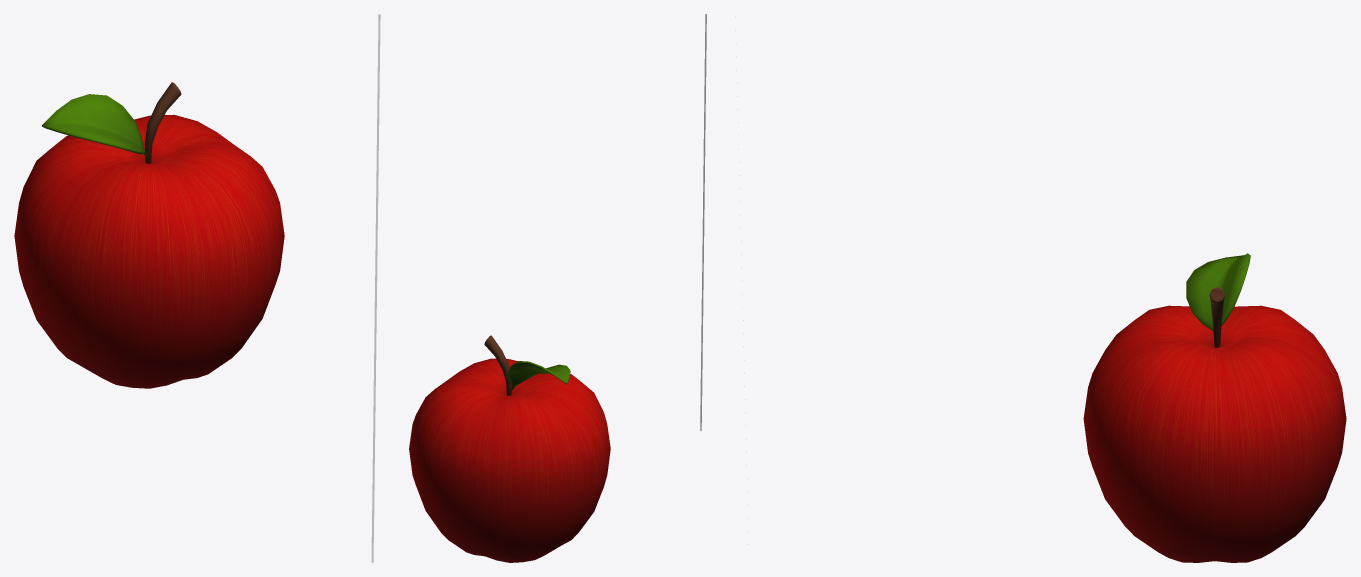
3 renders of one model, left to right at view 1: azimuth 30°, elevation 25°; view 2: azimuth 150°, elevation 25°; view 3: azimuth 270°, elevation 25°, orthographic. The views are drawn at different scales.
Parts seen in each view (by area): view 1: Apple, Плоскость; view 2: Apple, Плоскость; view 3: Apple.
Boxes of the visible parts, x1=… form: Apple: x1=14, y1=82, x2=284, y2=388; Плоскость: x1=371, y1=14, x2=380, y2=562; Apple: x1=409, y1=335, x2=610, y2=562; Плоскость: x1=700, y1=14, x2=706, y2=431; Apple: x1=1083, y1=253, x2=1346, y2=562.
Size of the model in its own units: 14.07 by 31.79 by 32.69.
2 materials, 1 textured.
